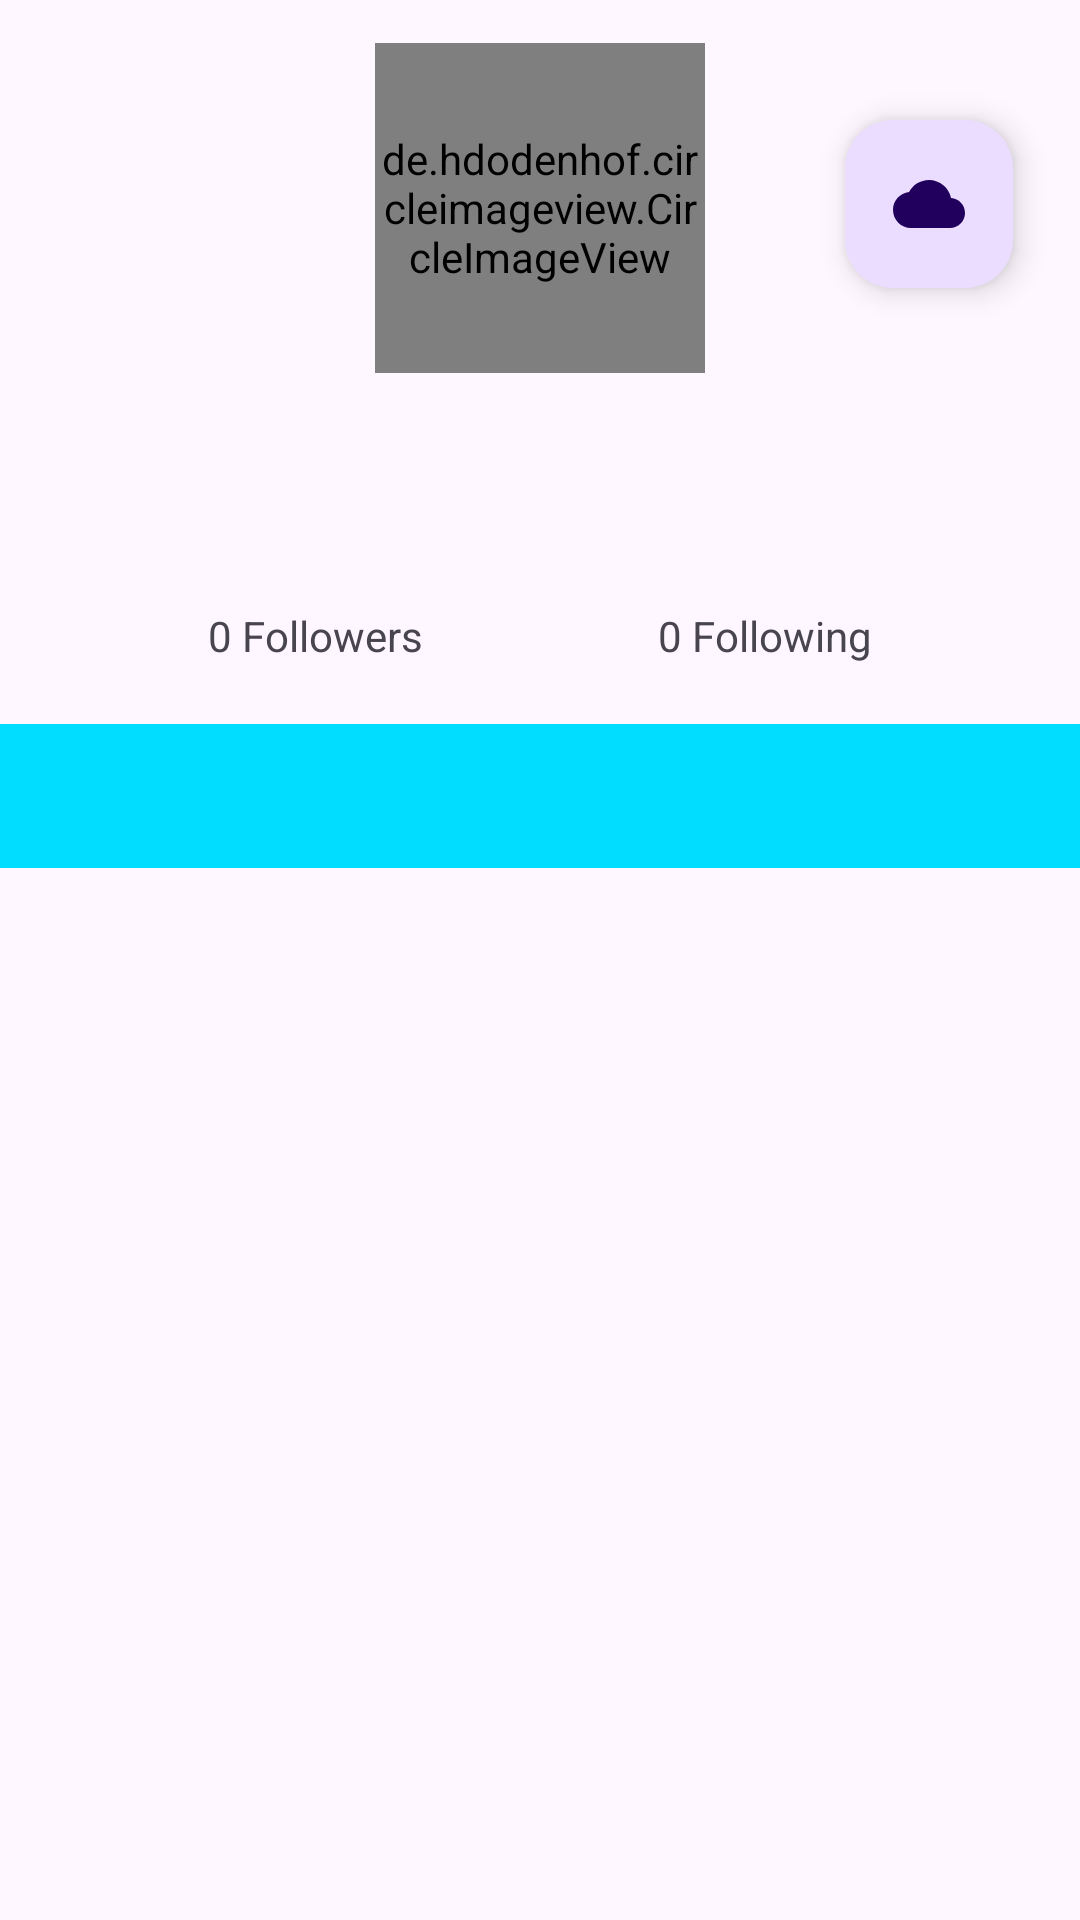

Screen size 1080 × 1920. Icon name, then its box in pixels as (x1, y1, x2, y2):
cloud: (893, 180, 965, 228)
